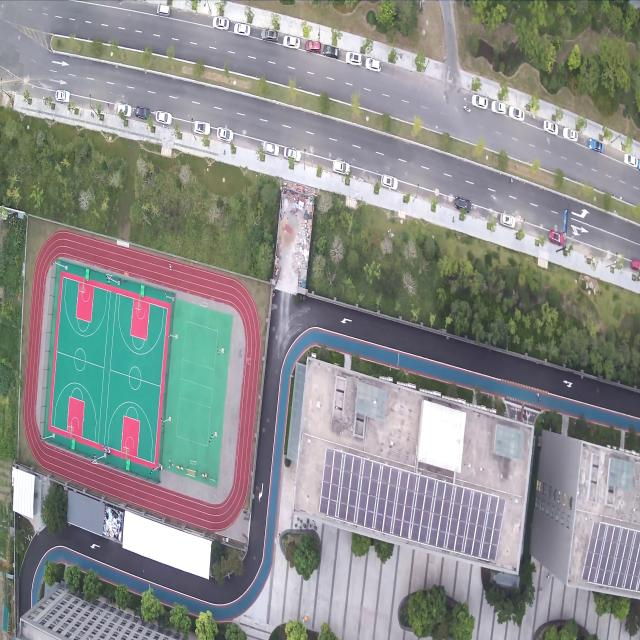UAV: (246, 356, 251, 365)
